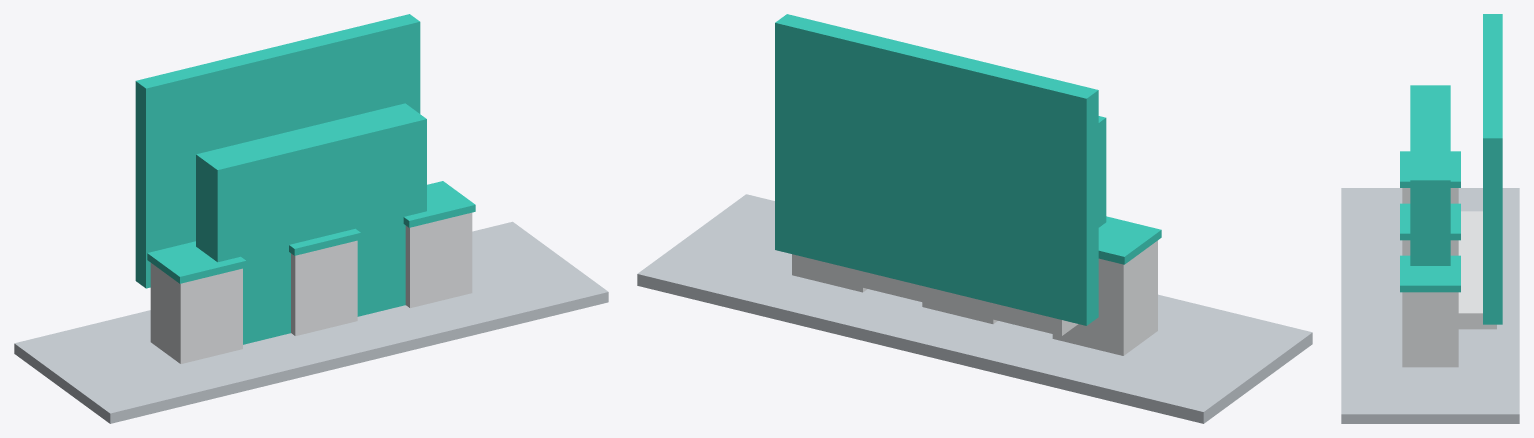
3 views of the same model, side by side, from view 1: azimuth 30°, elevation 25°; view 2: azimuth 150°, elevation 25°; view 3: azimuth 270°, elevation 25° (orthographic). The views are drawn at different scales.
Parts seen in each view (by area): view 1: Exhibition Booth Concept; view 2: Exhibition Booth Concept; view 3: Exhibition Booth Concept.
Part boxes in pixels (bbox=[...]): Exhibition Booth Concept: bbox=[14, 14, 608, 423]; Exhibition Booth Concept: bbox=[637, 14, 1312, 423]; Exhibition Booth Concept: bbox=[1341, 14, 1519, 423].
Bounding box in the file's own units: 6 × 2.9 × 2.
